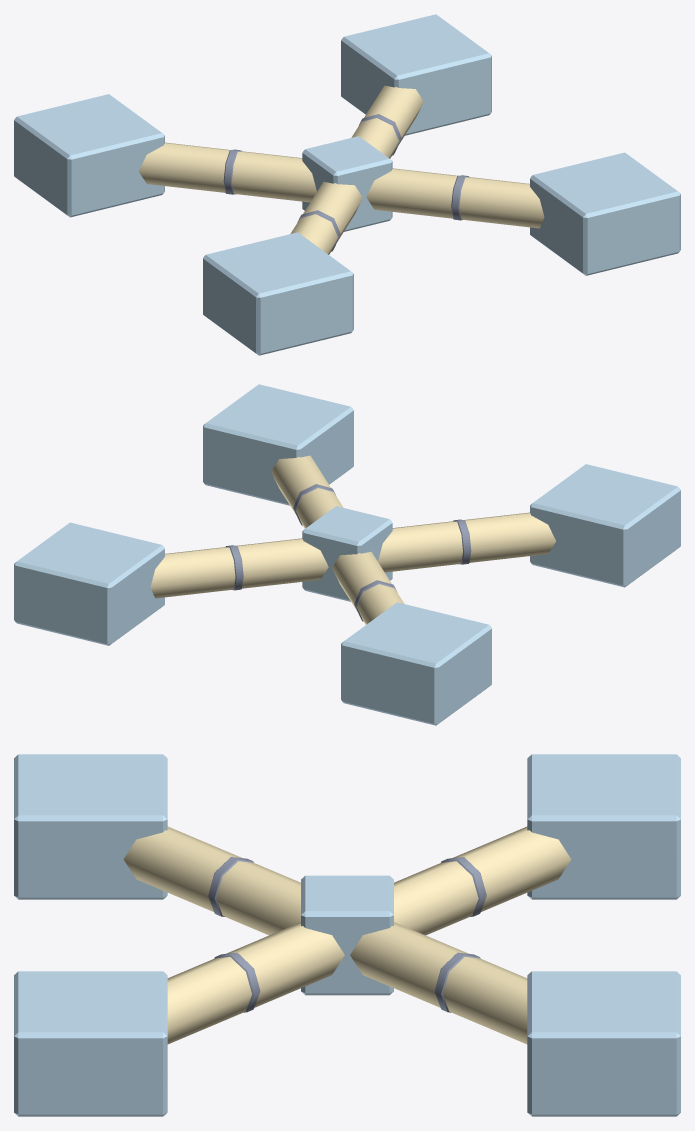
Rendered from R4C_ROD_CROSS_LOD1.glb.
3 renders of one model, top to bottom at view 1: azimuth 30°, elevation 25°; view 2: azimuth 150°, elevation 25°; view 3: azimuth 270°, elevation 25°, orthographic. The views are drawn at different scales.
Visible parts, largest first — view 1: R4C_ROD_CROSS_LOD1; view 2: R4C_ROD_CROSS_LOD1; view 3: R4C_ROD_CROSS_LOD1.
Part boxes in pixels (bbox=[...]): R4C_ROD_CROSS_LOD1: bbox=[14, 14, 680, 355]; R4C_ROD_CROSS_LOD1: bbox=[14, 384, 680, 725]; R4C_ROD_CROSS_LOD1: bbox=[14, 754, 680, 1116].
Size of the model in its own units: 1.62 by 0.226 by 1.62.
